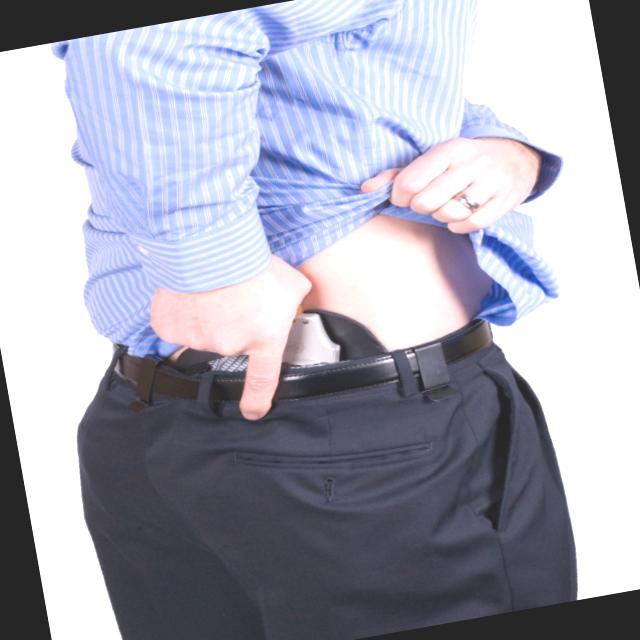handgun: (183, 282, 370, 408)
